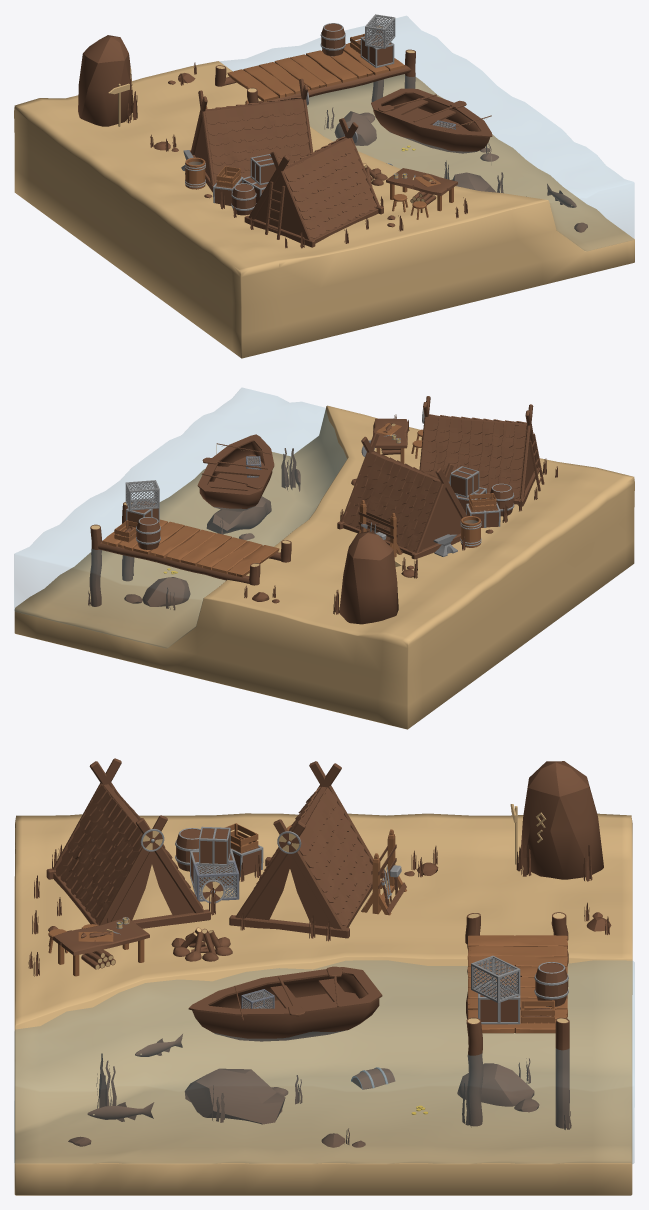
The model's file is Viking_Diorama_Scene.glb.
3 views of the same model, one above another, from view 1: azimuth 30°, elevation 25°; view 2: azimuth 150°, elevation 25°; view 3: azimuth 270°, elevation 25° (orthographic). The views are drawn at different scales.
Parts seen in each view (by area): view 1: unnamed (×31); view 2: unnamed (×29); view 3: unnamed (×35).
Boxes of the visible parts, x1,y1,x2,y2 form: unnamed (×31): (14,15,634,358); unnamed (×29): (14,388,634,729); unnamed (×35): (14,758,634,1195).
Size of the model in its own units: 12.62 by 4.99 by 12.64.
